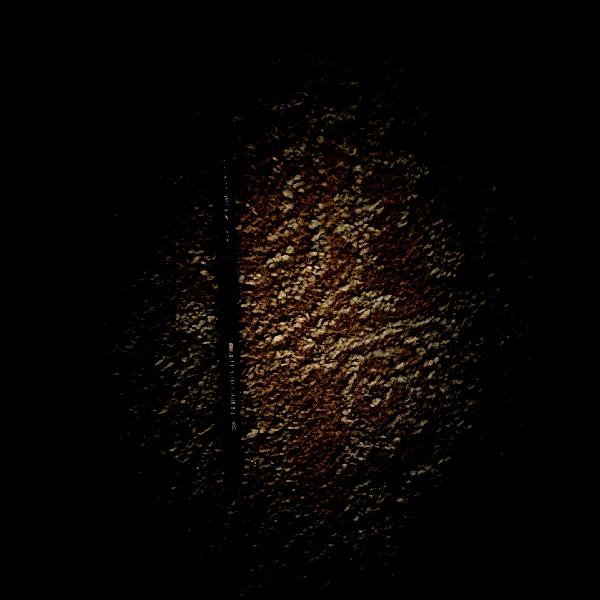pencil: (216, 159, 240, 482)
